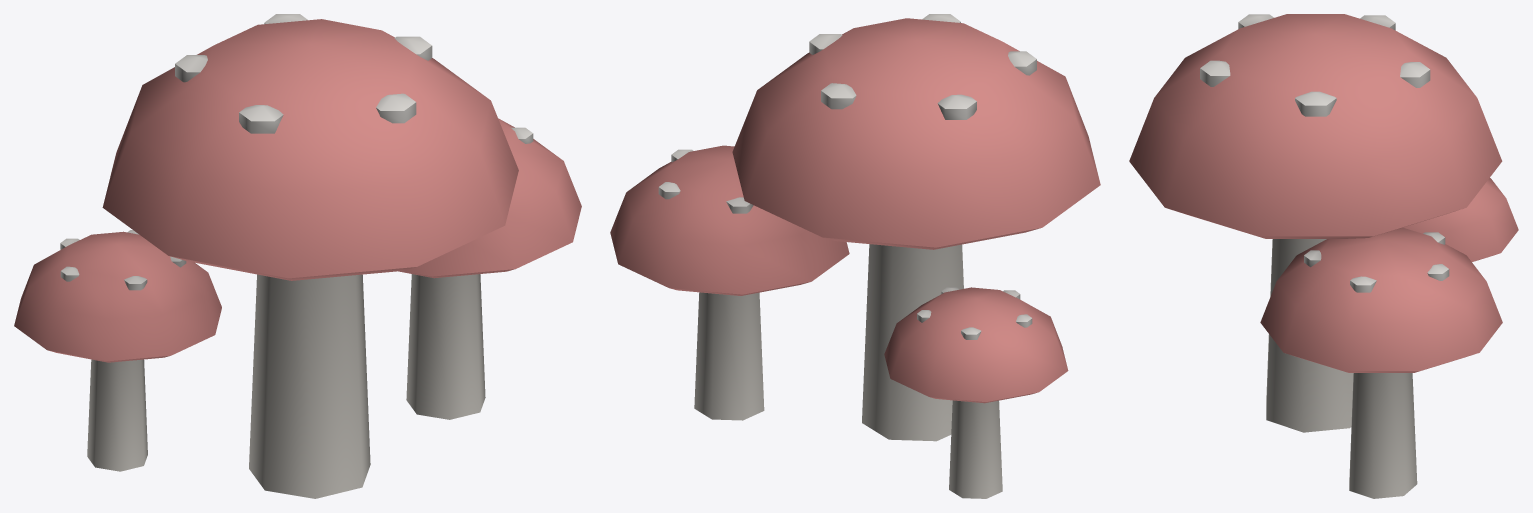
Rendered from prop_mushroom.glb.
The picture shows the model from 3 angles, left to right: view 1: azimuth 30°, elevation 25°; view 2: azimuth 150°, elevation 25°; view 3: azimuth 270°, elevation 25°; orthographic projection. The views are drawn at different scales.
Visible parts, largest first — view 1: prop_mushroom; view 2: prop_mushroom; view 3: prop_mushroom.
Boxes of the visible parts, bbox=[...] form: prop_mushroom: bbox=[14, 14, 581, 498]; prop_mushroom: bbox=[610, 14, 1100, 498]; prop_mushroom: bbox=[1129, 14, 1518, 498].
Size of the model in its own units: 0.4659 by 0.3775 by 0.355.
